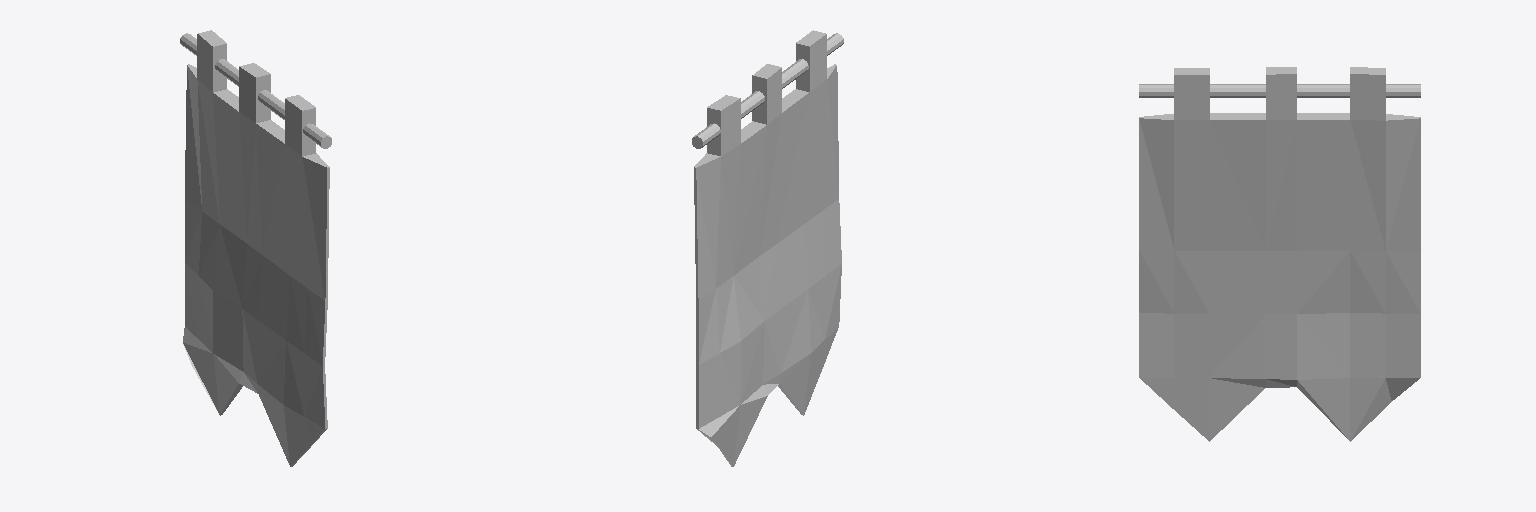
Rendered from estandarte.obj.
The picture shows the model from 3 angles: view 1: azimuth 30°, elevation 25°; view 2: azimuth 150°, elevation 25°; view 3: azimuth 270°, elevation 25°; orthographic projection.
Visible parts, largest first — view 1: Estandarte.002_Cube.001; view 2: Estandarte.002_Cube.001; view 3: Estandarte.002_Cube.001.
Boxes of the visible parts, x1=… form: Estandarte.002_Cube.001: x1=180, y1=30, x2=331, y2=466; Estandarte.002_Cube.001: x1=692, y1=30, x2=843, y2=466; Estandarte.002_Cube.001: x1=1139, y1=67, x2=1420, y2=441.
Bounding box in the file's own units: 0.123 × 2.56 × 1.76.